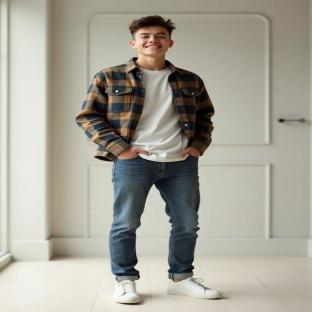Human: (76, 16, 222, 303)
